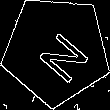N_NW: (25, 19, 88, 82)
